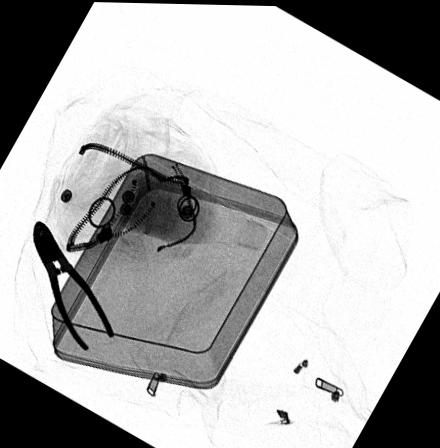Pliers: (32, 217, 116, 350)
